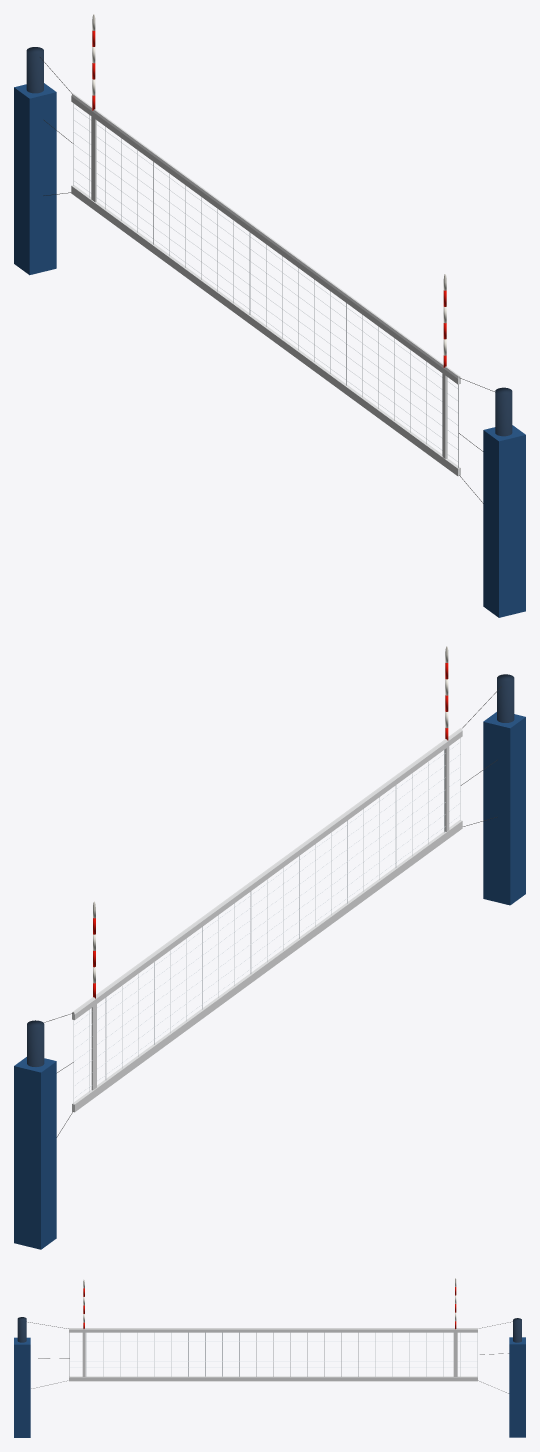
Rendered from volleyball_net_system.glb.
3 renders of one model, top to bottom at view 1: azimuth 30°, elevation 25°; view 2: azimuth 150°, elevation 25°; view 3: azimuth 270°, elevation 25°, orthographic. The views are drawn at different scales.
Visible parts, largest first — view 1: Pole_Pads, Net_Tape, Net_Mesh, Poles; view 2: Pole_Pads, Net_Tape, Net_Mesh, Poles; view 3: Net_Tape, Pole_Pads, Net_Mesh, Poles.
Part boxes in pixels (left/top/right/bottom): Pole_Pads: left=14, top=83, right=525, bottom=617; Net_Tape: left=71, top=93, right=460, bottom=476; Net_Mesh: left=73, top=103, right=458, bottom=467; Poles: left=26, top=47, right=512, bottom=436; Pole_Pads: left=14, top=712, right=525, bottom=1249; Net_Tape: left=72, top=728, right=462, bottom=1112; Net_Mesh: left=73, top=738, right=460, bottom=1103; Poles: left=27, top=674, right=514, bottom=1066; Net_Tape: left=69, top=1328, right=477, bottom=1381; Pole_Pads: left=14, top=1337, right=525, bottom=1437; Net_Mesh: left=69, top=1332, right=477, bottom=1376; Poles: left=17, top=1317, right=521, bottom=1342.
Size of the model in its own units: 0.413 by 4.19 by 12.4.
